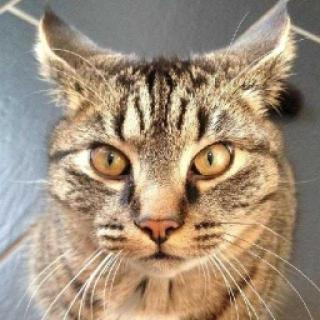cat: (39, 7, 294, 290)
nose: (133, 195, 189, 247)
